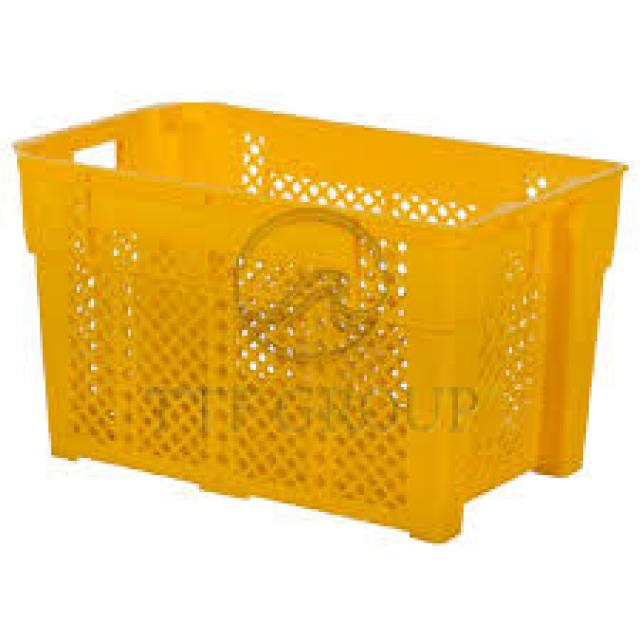basket: (0, 76, 628, 560)
